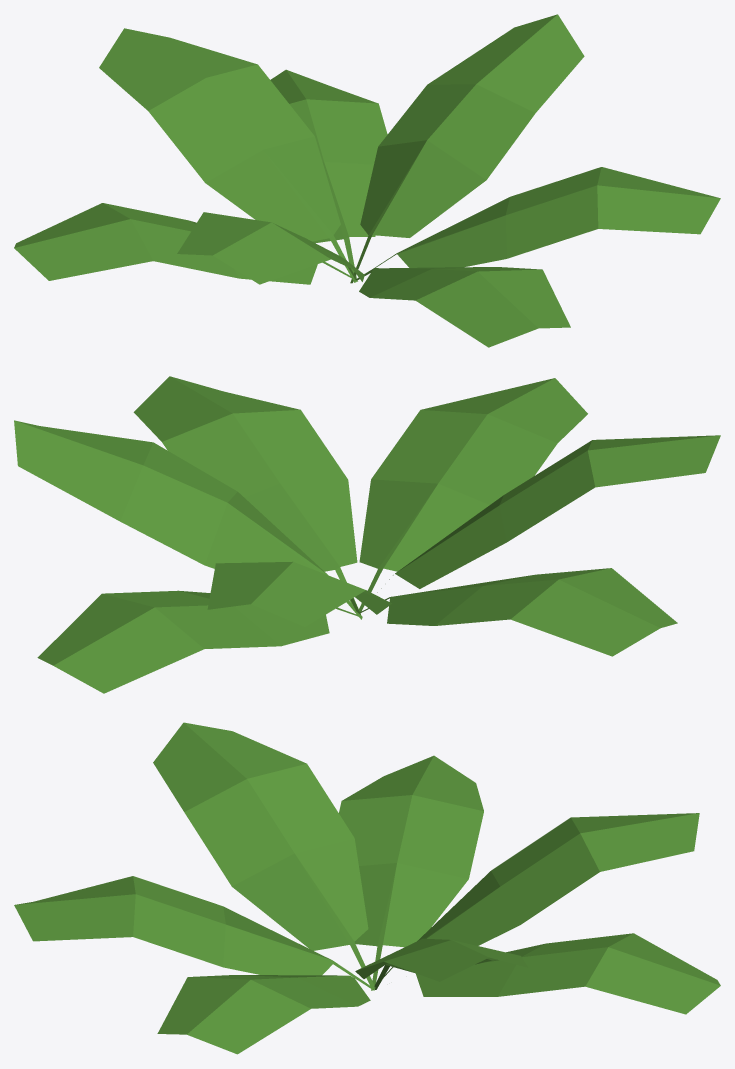
The picture shows the model from 3 angles, top to bottom: view 1: azimuth 30°, elevation 25°; view 2: azimuth 150°, elevation 25°; view 3: azimuth 270°, elevation 25°; orthographic projection. The views are drawn at different scales.
Parts seen in each view (by area): view 1: 평면.003, 평면.005, 평면.006, 평면, 평면.002, 평면.004, 평면.001; view 2: 평면, 평면.006, 평면.005, 평면.004, 평면.002, 평면.001, 평면.003; view 3: 평면.001, 평면.002, 평면, 평면.003, 평면.004, 평면.006, 평면.005.
Part boxes in pixels (<box>): 평면.003: <box>99,28,356,282</box>; 평면.005: <box>350,14,584,283</box>; 평면.006: <box>375,167,720,267</box>; 평면: <box>354,267,570,347</box>; 평면.002: <box>14,203,357,284</box>; 평면.004: <box>270,69,387,277</box>; 평면.001: <box>177,212,364,284</box>; 평면: <box>359,378,587,613</box>; 평면.006: <box>133,376,359,614</box>; 평면.005: <box>14,420,362,619</box>; 평면.004: <box>37,590,358,693</box>; 평면.002: <box>360,568,677,656</box>; 평면.001: <box>377,435,720,592</box>; 평면.003: <box>207,561,391,626</box>; 평면.001: <box>153,722,375,989</box>; 평면.002: <box>339,755,483,990</box>; 평면: <box>14,876,374,990</box>; 평면.003: <box>374,813,699,987</box>; 평면.004: <box>415,933,720,1014</box>; 평면.006: <box>157,975,370,1054</box>; 평면.005: <box>355,938,528,989</box>.
Bounding box in the file's own units: 737 × 194 × 779.
